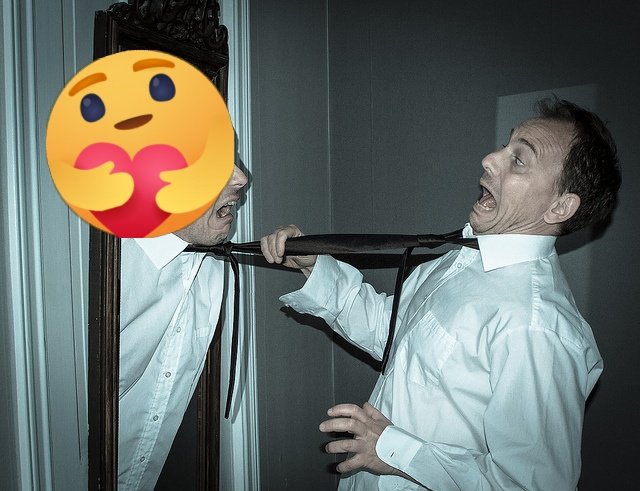care: (46, 50, 234, 238)
